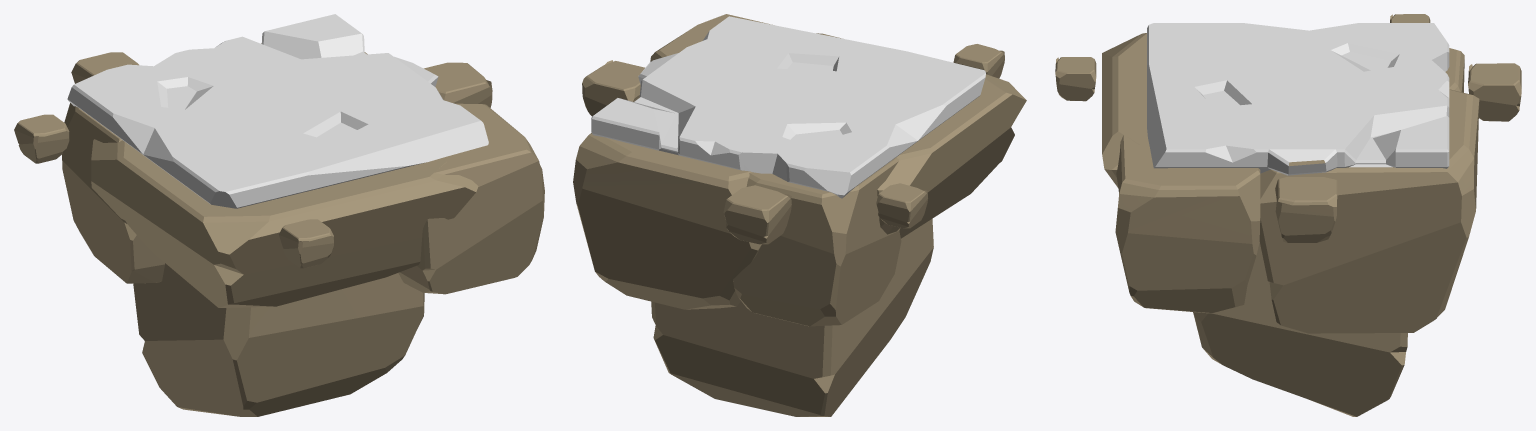
The model's file is FloatingFloorBox2.fbx.
The picture shows the model from 3 angles, left to right: view 1: azimuth 30°, elevation 25°; view 2: azimuth 150°, elevation 25°; view 3: azimuth 270°, elevation 25°; orthographic projection. The views are drawn at different scales.
Parts seen in each view (by area): view 1: floor2.001; view 2: floor2.001; view 3: floor2.001.
Part boxes in pixels (left/top/right/bottom): floor2.001: left=14, top=14, right=544, bottom=416; floor2.001: left=573, top=14, right=1026, bottom=416; floor2.001: left=1055, top=14, right=1521, bottom=416.
Bounding box in the file's own units: 394 × 289 × 411.
